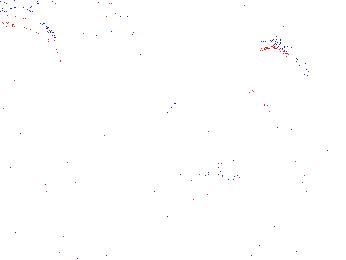moon jellyfish: (157, 83, 258, 173), (80, 10, 181, 75), (247, 42, 313, 118), (1, 11, 63, 81)
